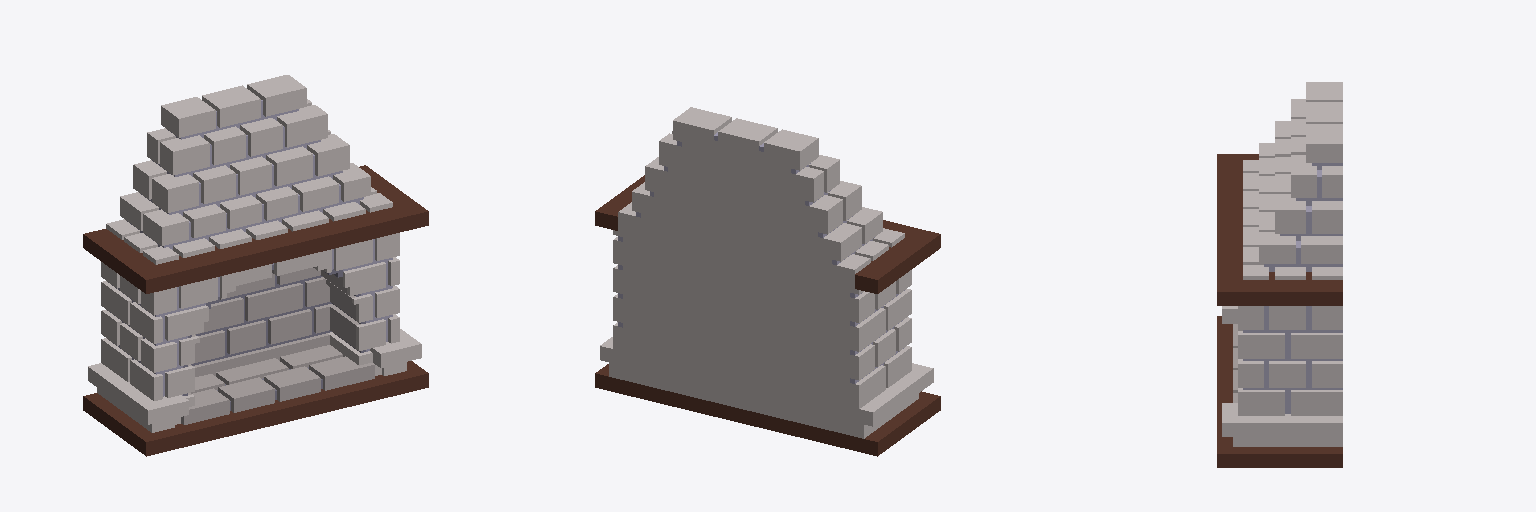
The picture shows the model from 3 angles: view 1: azimuth 30°, elevation 25°; view 2: azimuth 150°, elevation 25°; view 3: azimuth 270°, elevation 25°; orthographic projection.
Parts seen in each view (by area): view 1: object 1; view 2: object 1; view 3: object 1.
Part boxes in pixels (left/top/right/bottom): object 1: left=83, top=75, right=428, bottom=456; object 1: left=595, top=107, right=940, bottom=456; object 1: left=1217, top=82, right=1342, bottom=467.
Size of the model in its own units: 6.2 by 6 by 2.4.
Materials: 1 (1 with a texture image).